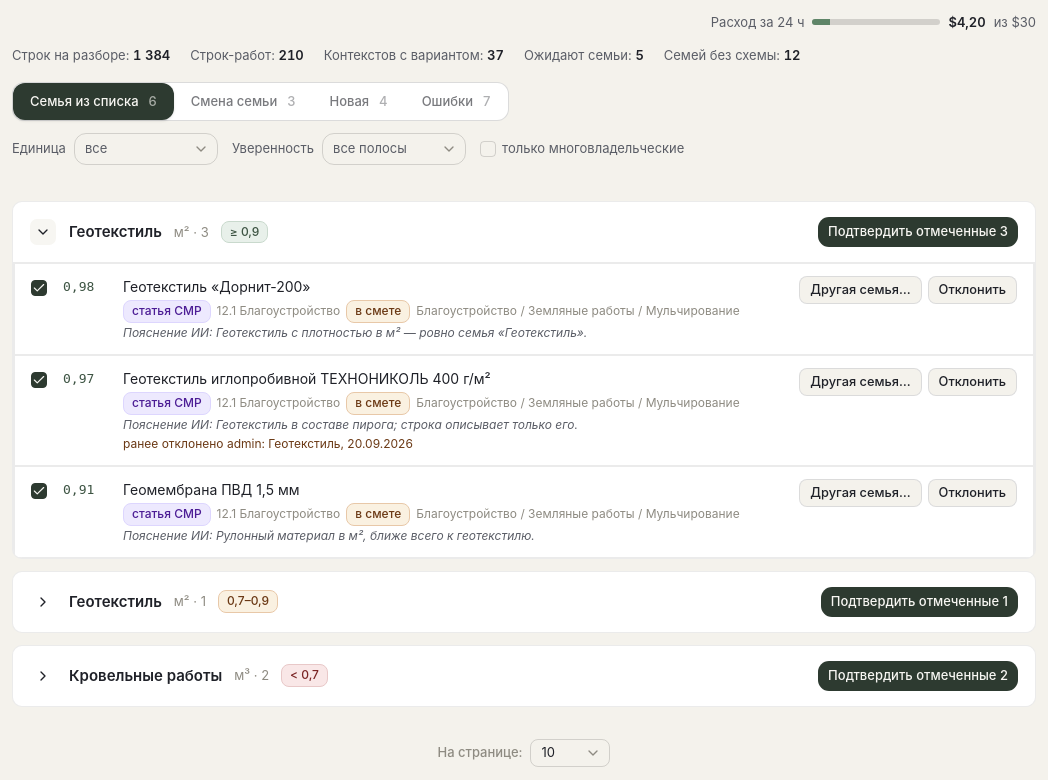
it: Очередь «Ошибки» — ожидание действий › «Отправить все» у группы единицы: кнопка занята на время запроса
Click the tab "Ошибки 7" at {"x": 456, "y": 101}, box left=405, top=83, right=508, bottom=120
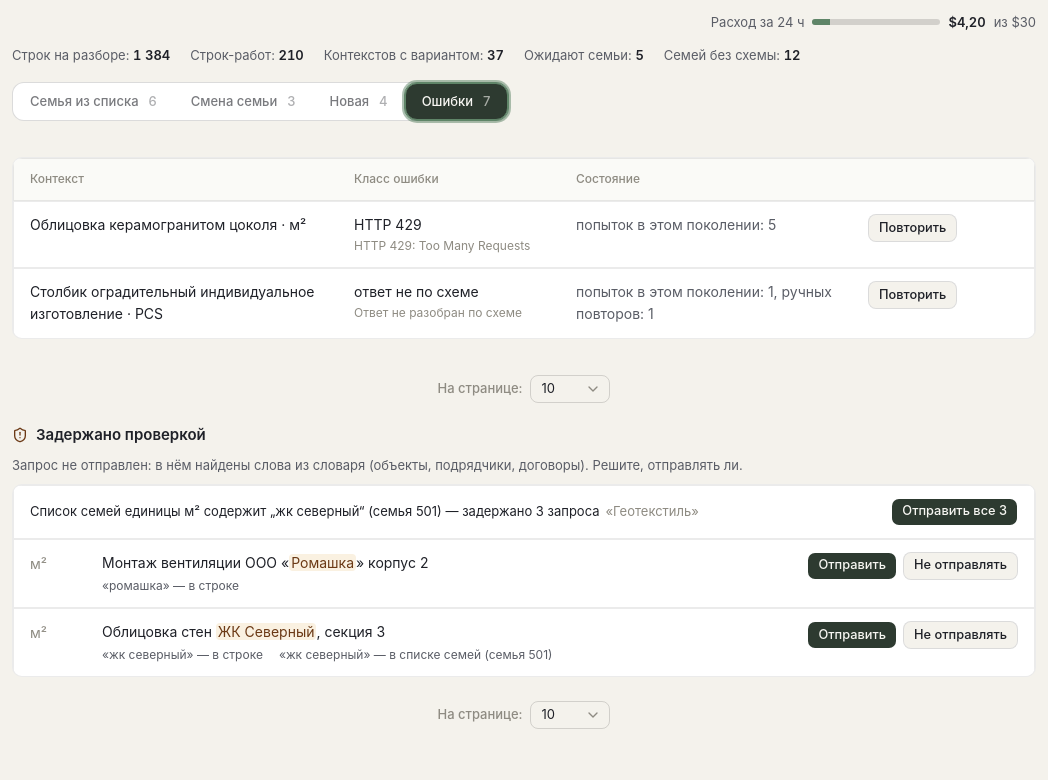
Result: the element with test id "errors-queue" is shown at left=12, top=157, right=1036, bottom=339
Click the button "Отправить все 3" at {"x": 955, "y": 512}, box left=891, top=498, right=1018, bottom=526
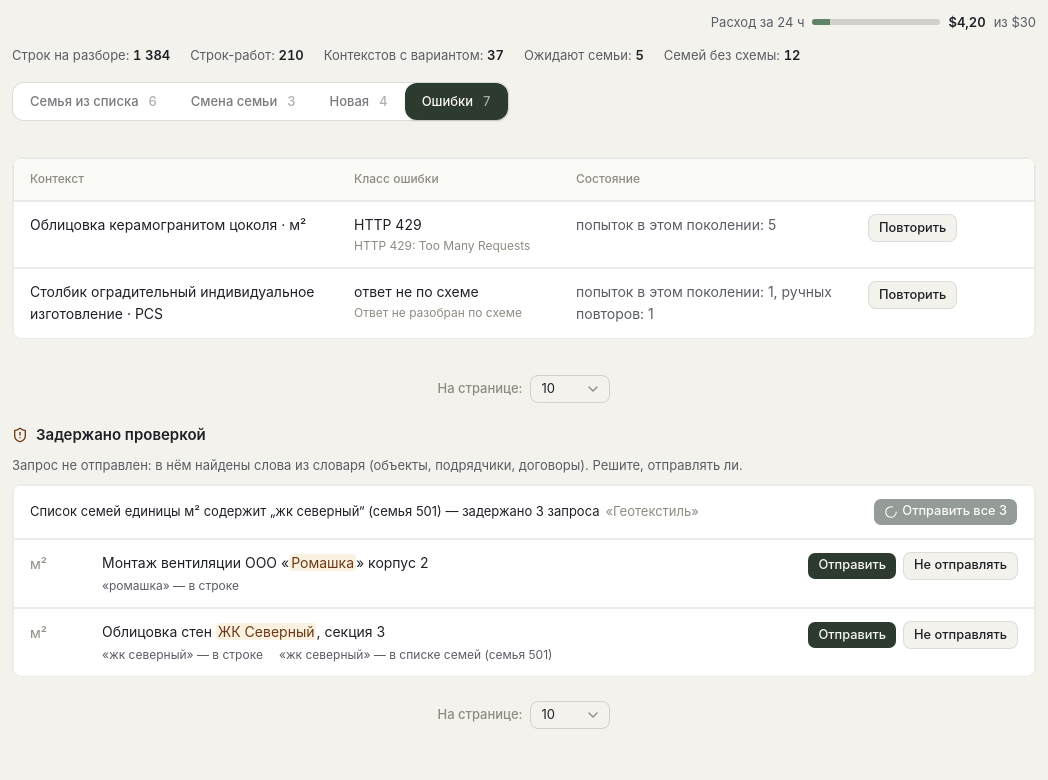
Result: the button "Отправить все 3" is disabled at left=873, top=498, right=1018, bottom=526
